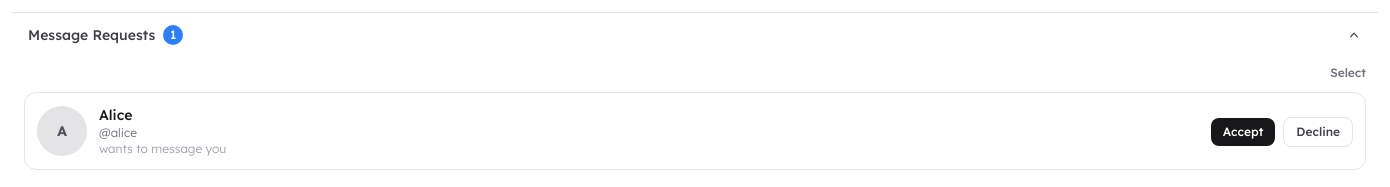
MessageRequestList › enters select mode showing Select all and Cancel
The width and height of the screenshot is (1390, 187).
Click the button "Select": (1348, 73) top-left (1330, 65), bottom-right (1366, 81)
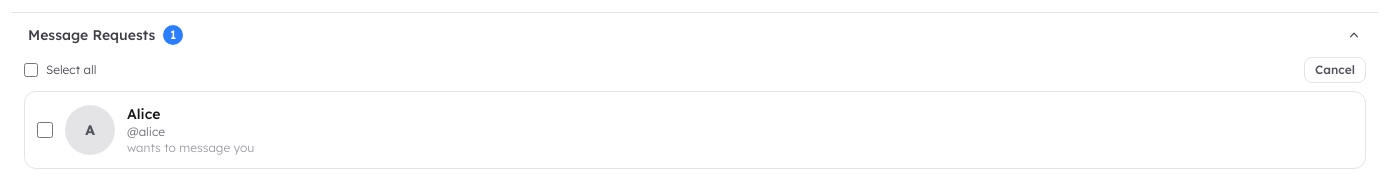
expect the text "Select all" is shown: met, box top-left (24, 62), bottom-right (96, 78)
expect the button "Cancel" is shown: met, box top-left (1304, 57), bottom-right (1366, 83)
